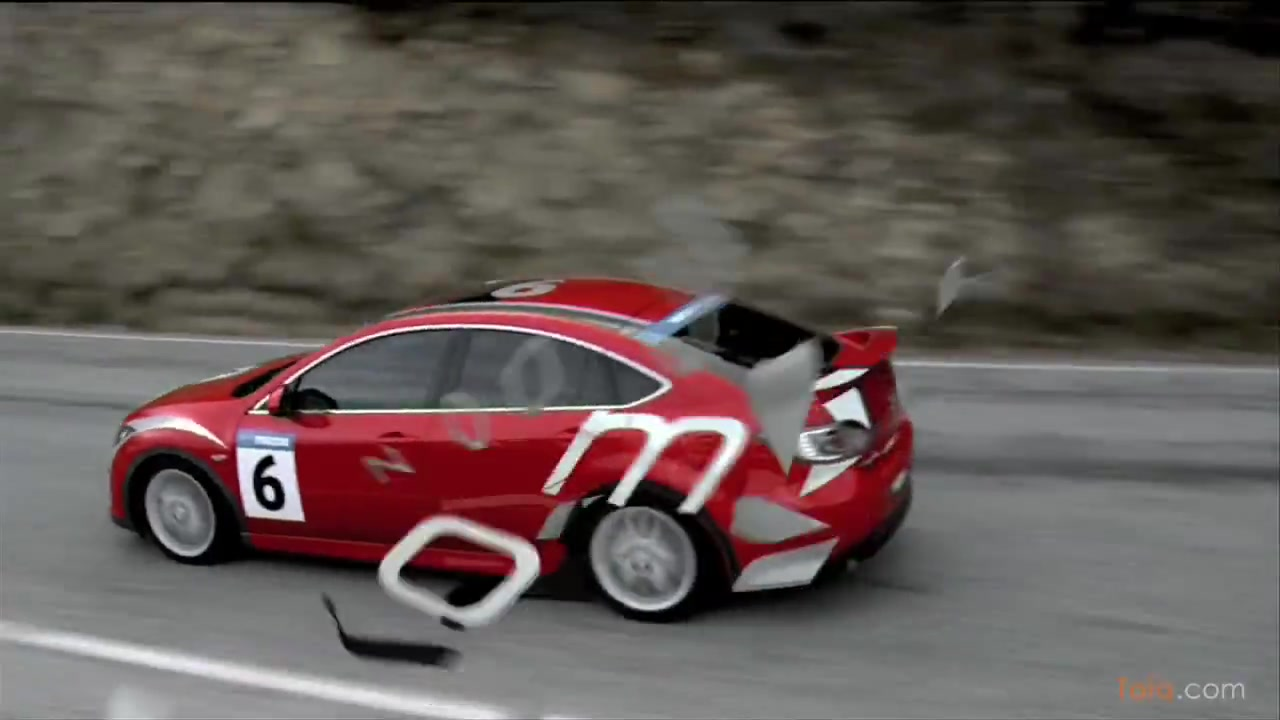car: (106, 274, 921, 626)
